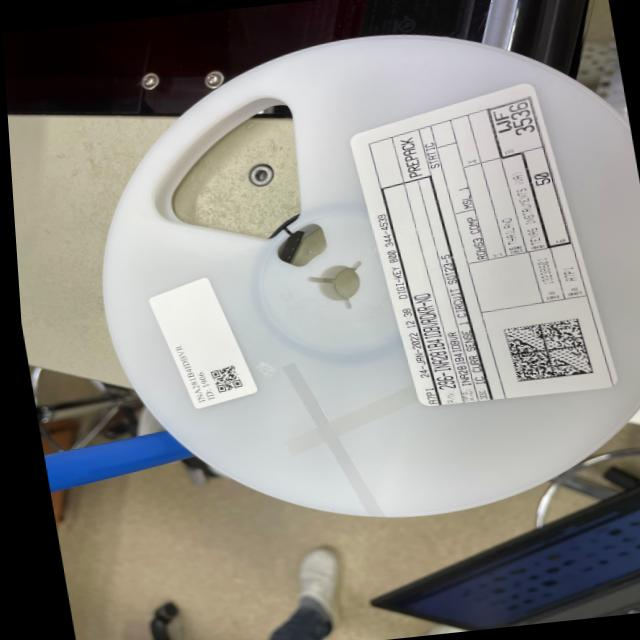datamatrix: (493, 316, 591, 386)
qrcode: (198, 363, 240, 398)
